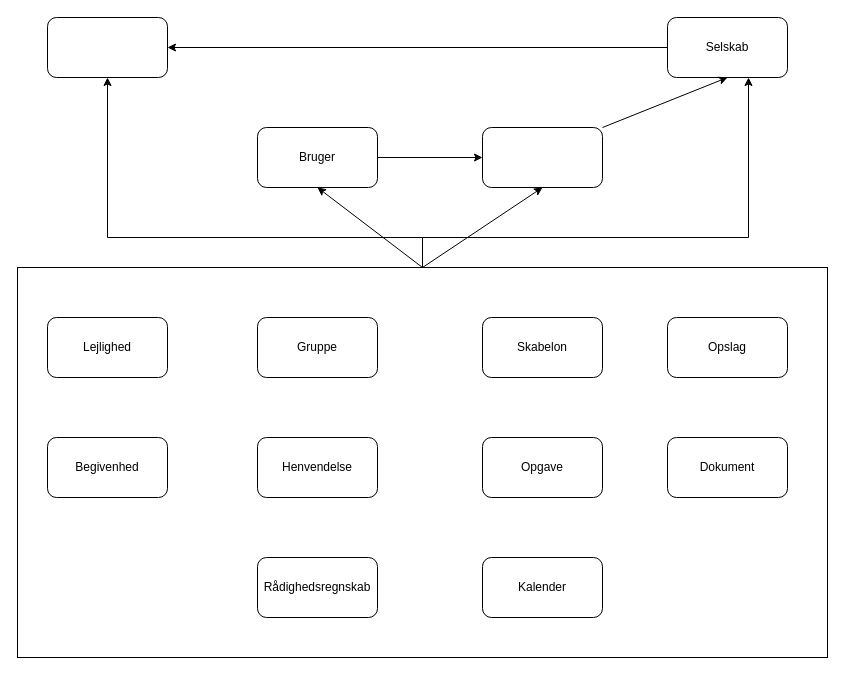
Image size: 845x675. Some labels were removed from this diagram. The shapes that lost their labels are listed below. From the top down, each one's centre as x and y in pixels, then its label:
At point 107,47: "Administration".
At point 542,157: "Afdeling".
